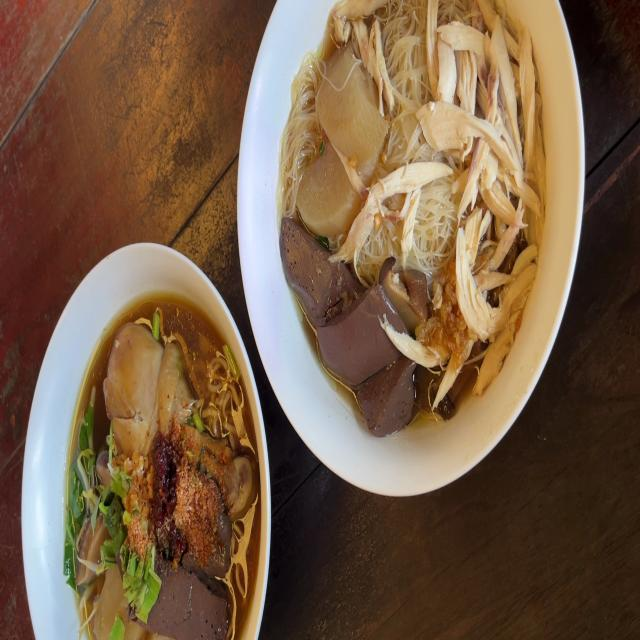noodle: (282, 0, 536, 415), (57, 291, 250, 640)
